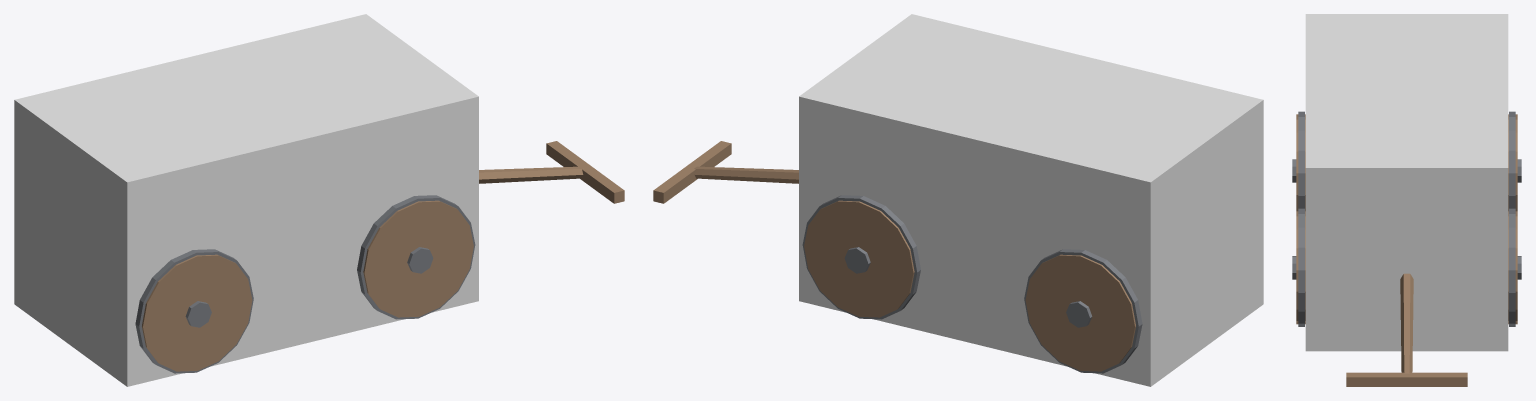
File: Wagon.fbx
The picture shows the model from 3 angles, left to right: view 1: azimuth 30°, elevation 25°; view 2: azimuth 150°, elevation 25°; view 3: azimuth 270°, elevation 25°; orthographic projection. The views are drawn at different scales.
Visible parts, largest first — view 1: COL_Wagon, Wagon_Mesh; view 2: COL_Wagon, Wagon_Mesh; view 3: COL_Wagon, Wagon_Mesh.
Part boxes in pixels (x1,y1,x2,y2): COL_Wagon: [14, 14, 478, 386]; Wagon_Mesh: [135, 141, 624, 373]; COL_Wagon: [799, 14, 1263, 386]; Wagon_Mesh: [653, 141, 1142, 373]; COL_Wagon: [1305, 14, 1508, 351]; Wagon_Mesh: [1292, 111, 1521, 386].
Bounding box in the file's own units: 3.99 × 1.5 × 1.7.
